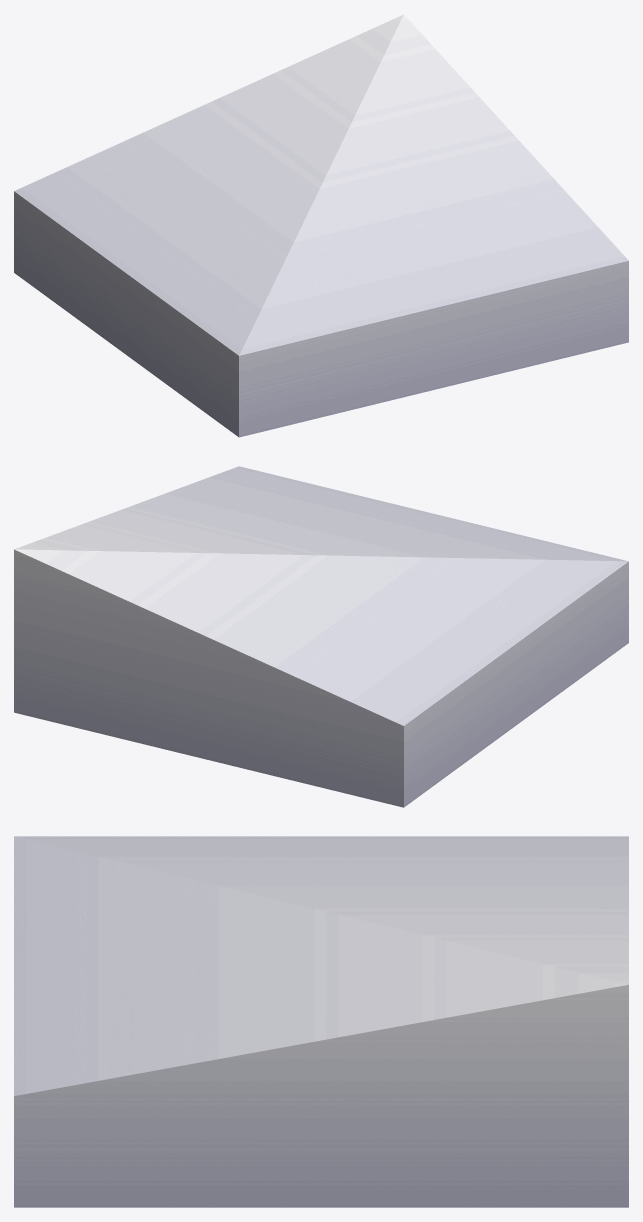
The model's file is tower-defense-kit--snow-tile-corner-outer.glb.
The picture shows the model from 3 angles, top to bottom: view 1: azimuth 30°, elevation 25°; view 2: azimuth 150°, elevation 25°; view 3: azimuth 270°, elevation 25°; orthographic projection. The views are drawn at different scales.
Visible parts, largest first — view 1: snow-tile-corner-outer; view 2: snow-tile-corner-outer; view 3: snow-tile-corner-outer.
Boxes of the visible parts, box(x1,y1,x2,y2) form: snow-tile-corner-outer: box(14, 14, 628, 437); snow-tile-corner-outer: box(14, 466, 628, 807); snow-tile-corner-outer: box(14, 836, 628, 1207).
Size of the model in its own units: 1 by 0.4 by 1.
1 material, 1 textured.
